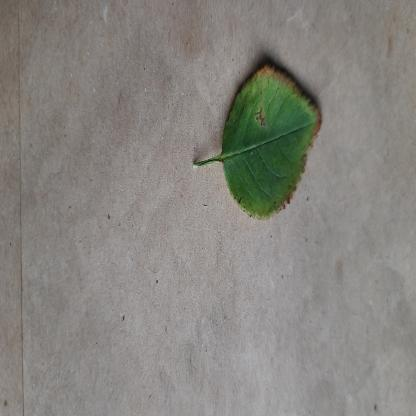black-spot: (219, 55, 324, 227)
